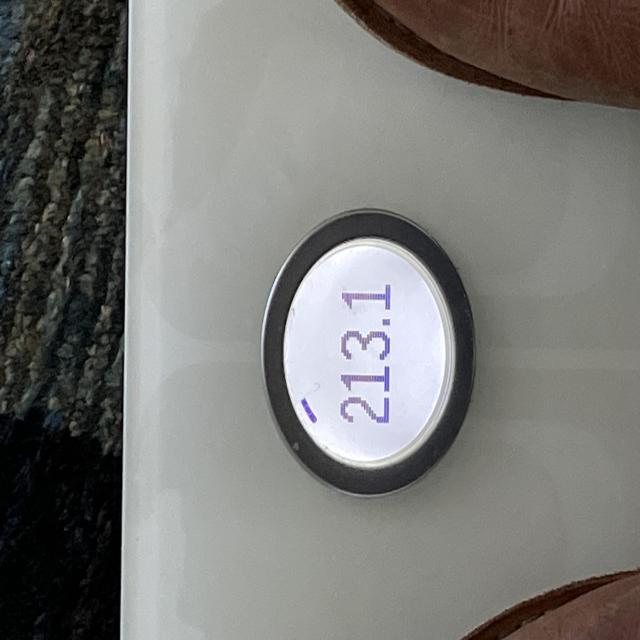ws: (259, 209, 478, 499)
